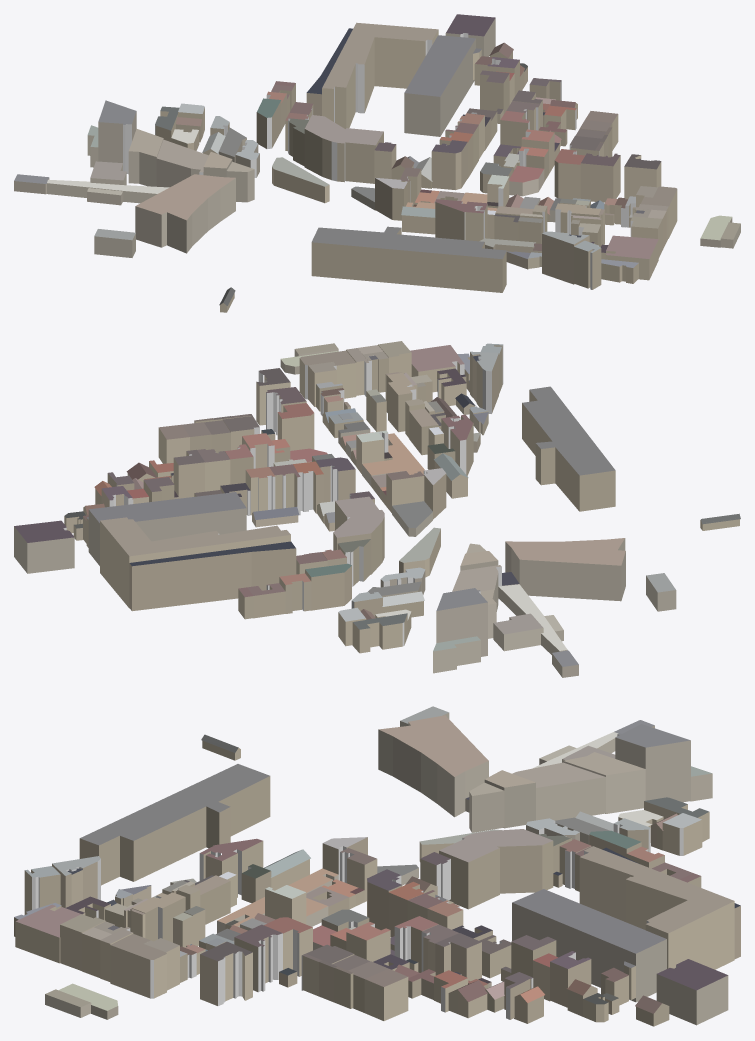
The picture shows the model from 3 angles, top to bottom: view 1: azimuth 30°, elevation 25°; view 2: azimuth 150°, elevation 25°; view 3: azimuth 270°, elevation 25°; orthographic projection. The views are drawn at different scales.
Visible parts, largest first — view 1: tuile; view 2: tuile; view 3: tuile.
Part boxes in pixels (<box>): tuile: <box>14,14,740,312</box>; tuile: <box>14,341,740,677</box>; tuile: <box>14,706,740,1026</box>.
Bounding box in the file's own units: 262 × 24.72 × 266.
